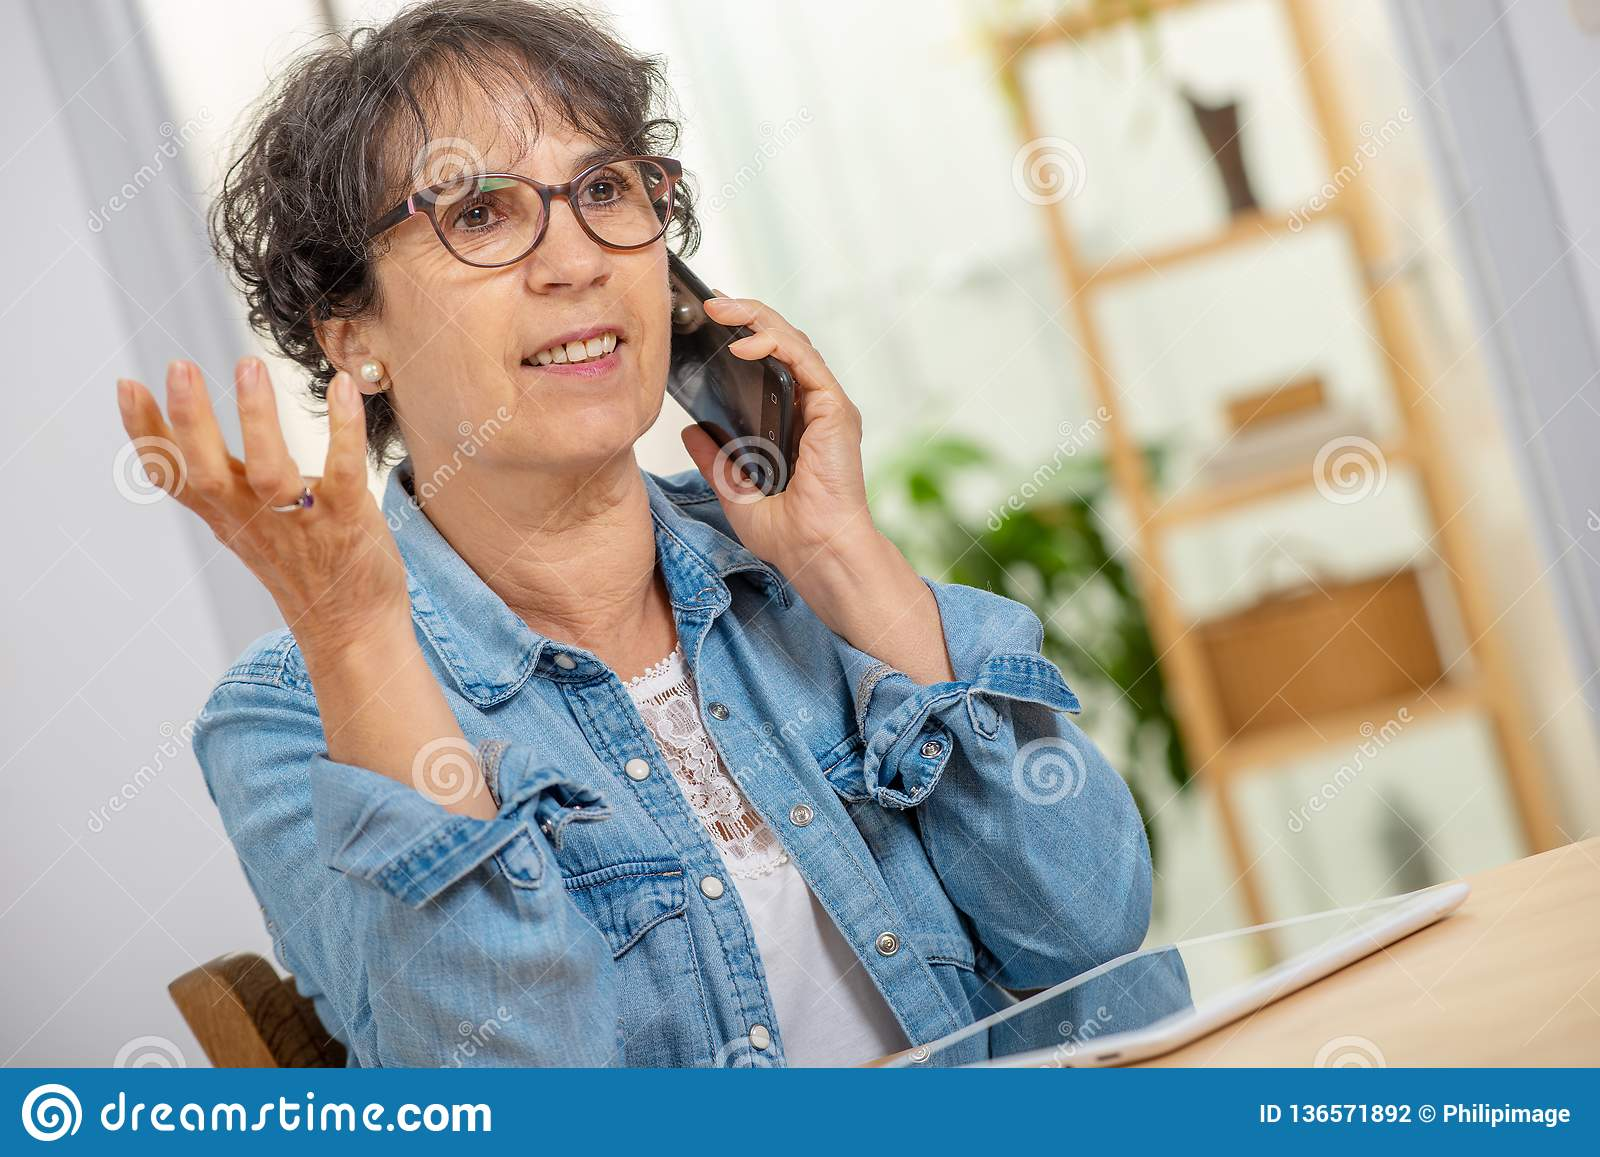phone: (648, 240, 802, 510)
talk: (402, 134, 882, 587)
